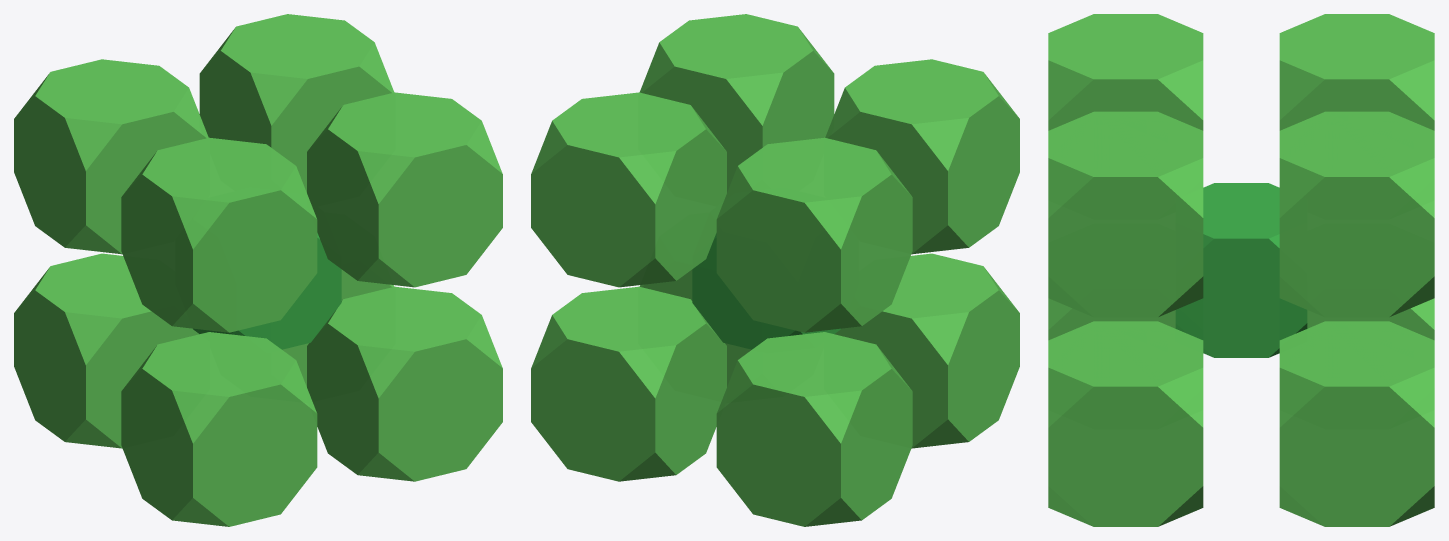
The model's file is fractaltruncatedcube1.glb.
The picture shows the model from 3 angles, left to right: view 1: azimuth 30°, elevation 25°; view 2: azimuth 150°, elevation 25°; view 3: azimuth 270°, elevation 25°; orthographic projection. The views are drawn at different scales.
Size of the model in its own units: 7.36 by 7.36 by 7.36.
